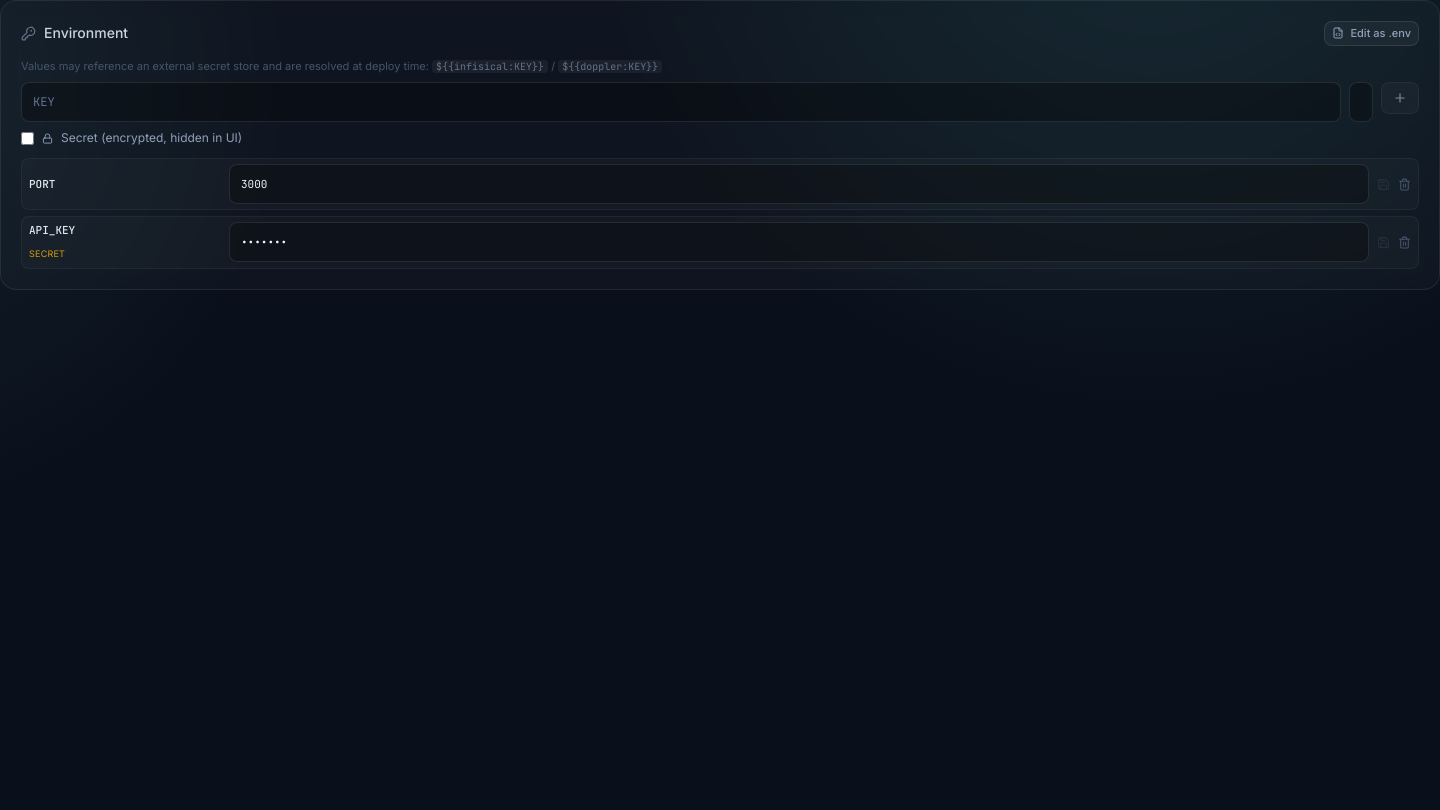
Scenario: EnvCard › toasts the failure when a save is rejected
The image size is (1440, 810).
Expected: the text "PORT" is shown, top-left (29, 177), bottom-right (55, 191)
Type "X" into the field showing "3000" at (799, 184), box top-left (229, 164), bottom-right (1369, 204)
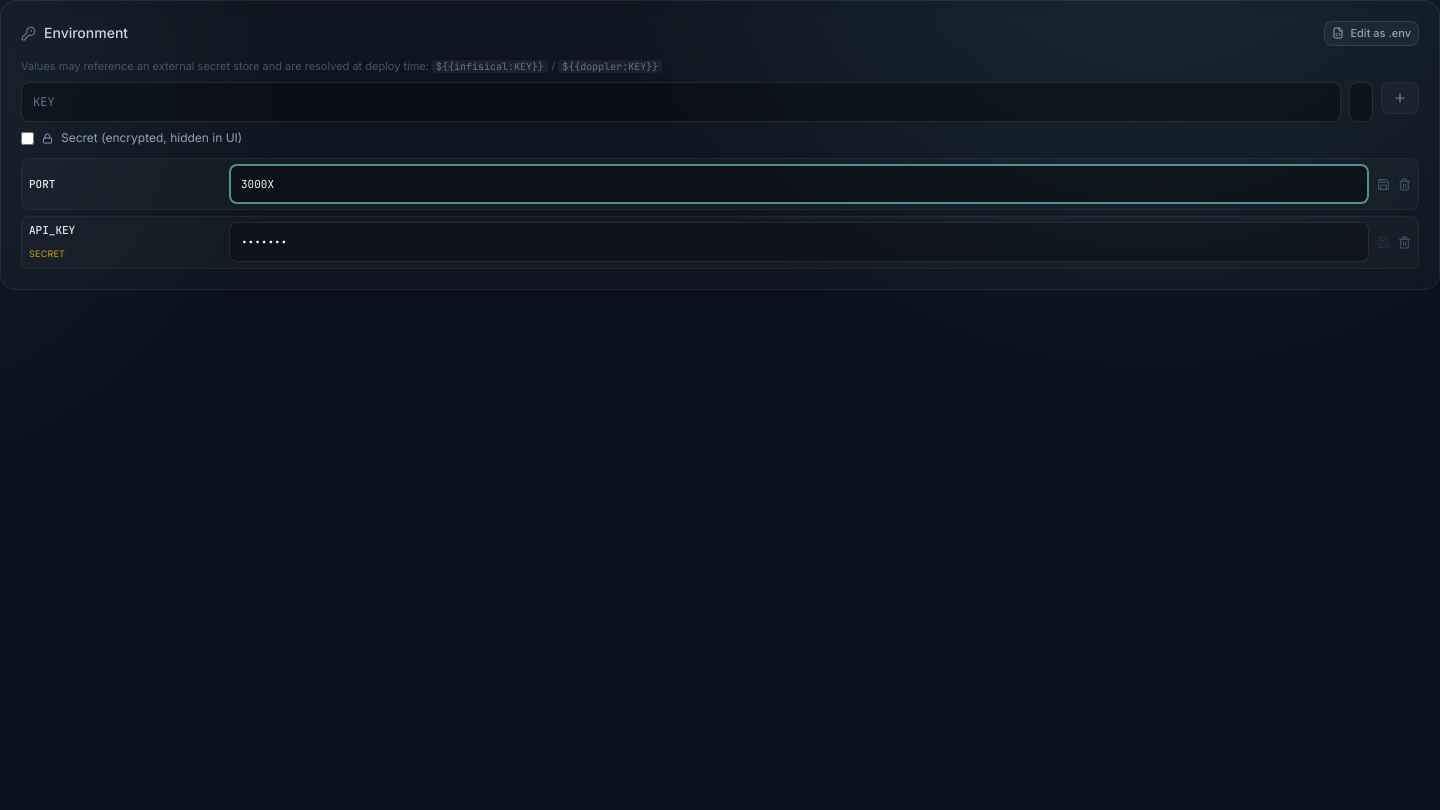
Click the button titled "Save" in the row of "PORT" at (1384, 184), box top-left (1377, 178), bottom-right (1390, 190)
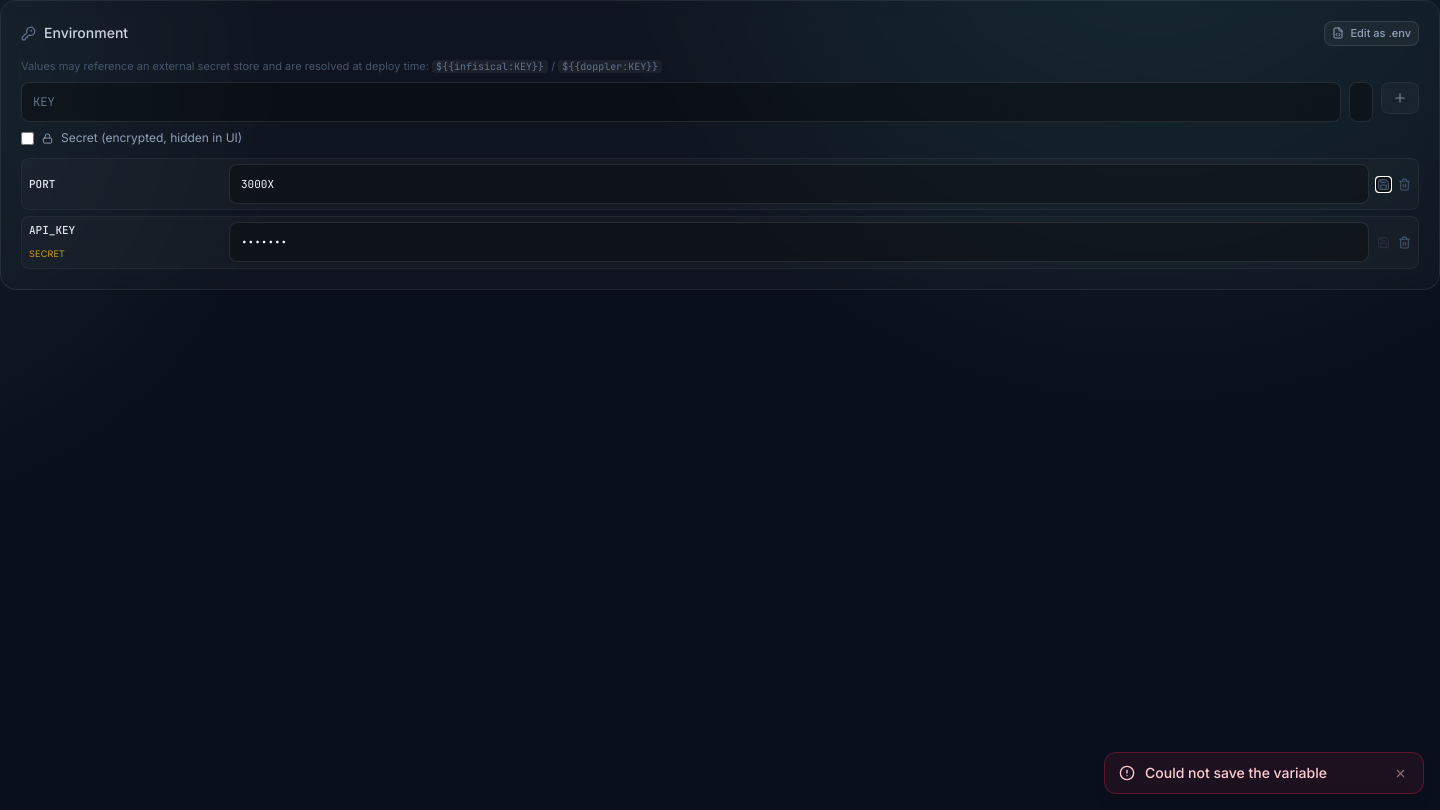
Result: the text "Could not save the variable" is shown at top-left (1145, 764), bottom-right (1327, 781)
